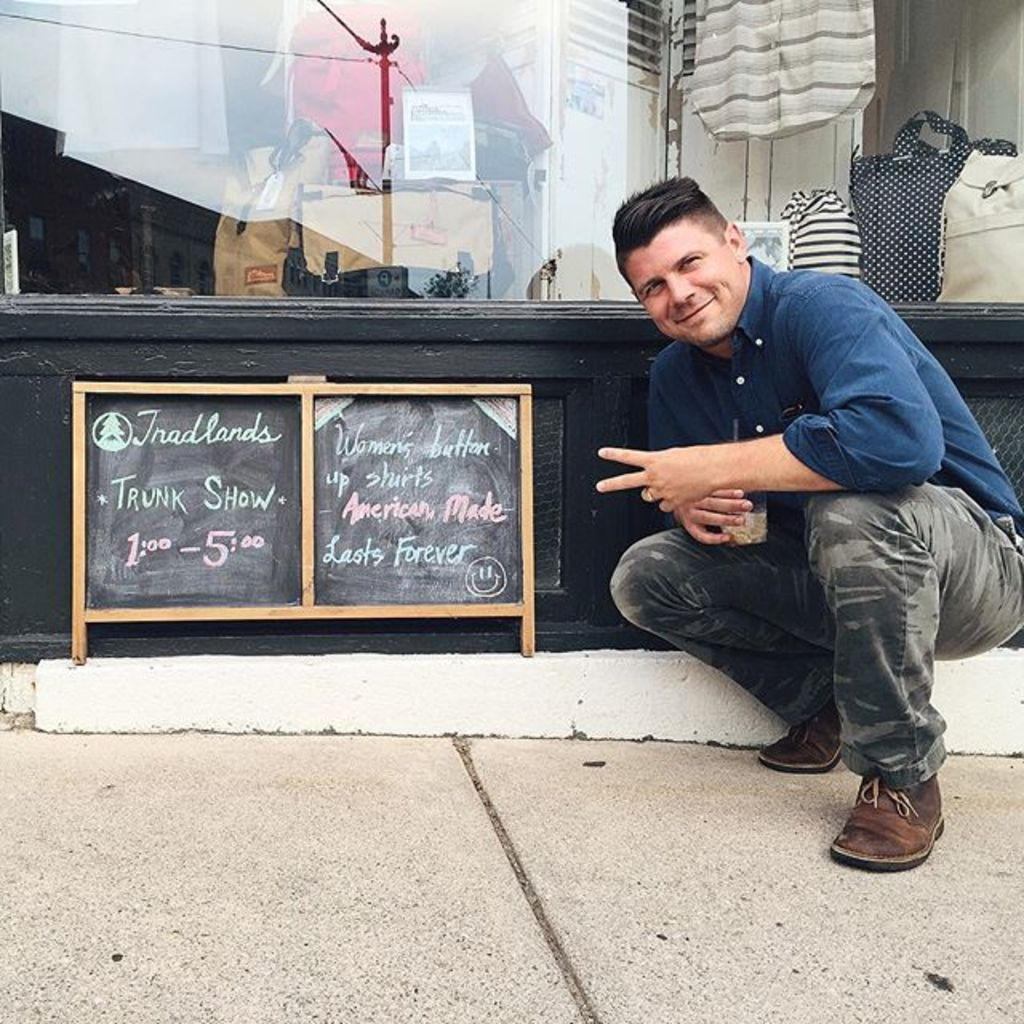Footwear: (822, 779, 944, 870), (758, 694, 846, 770)
